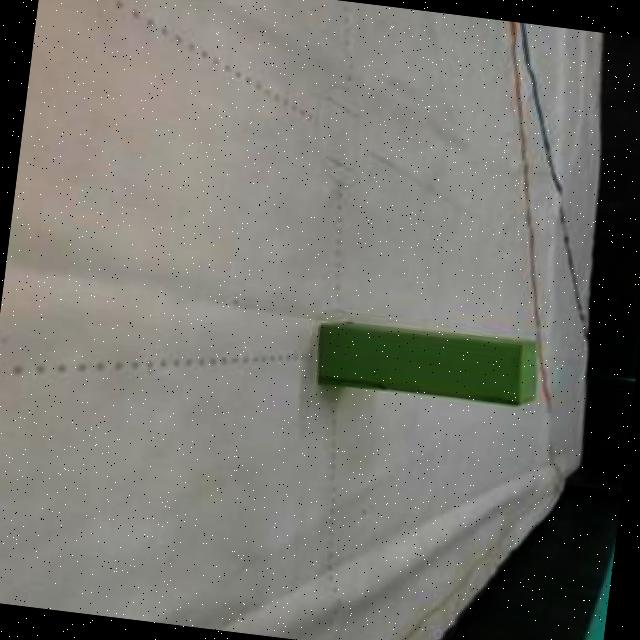greenbox: (306, 316, 546, 414)
